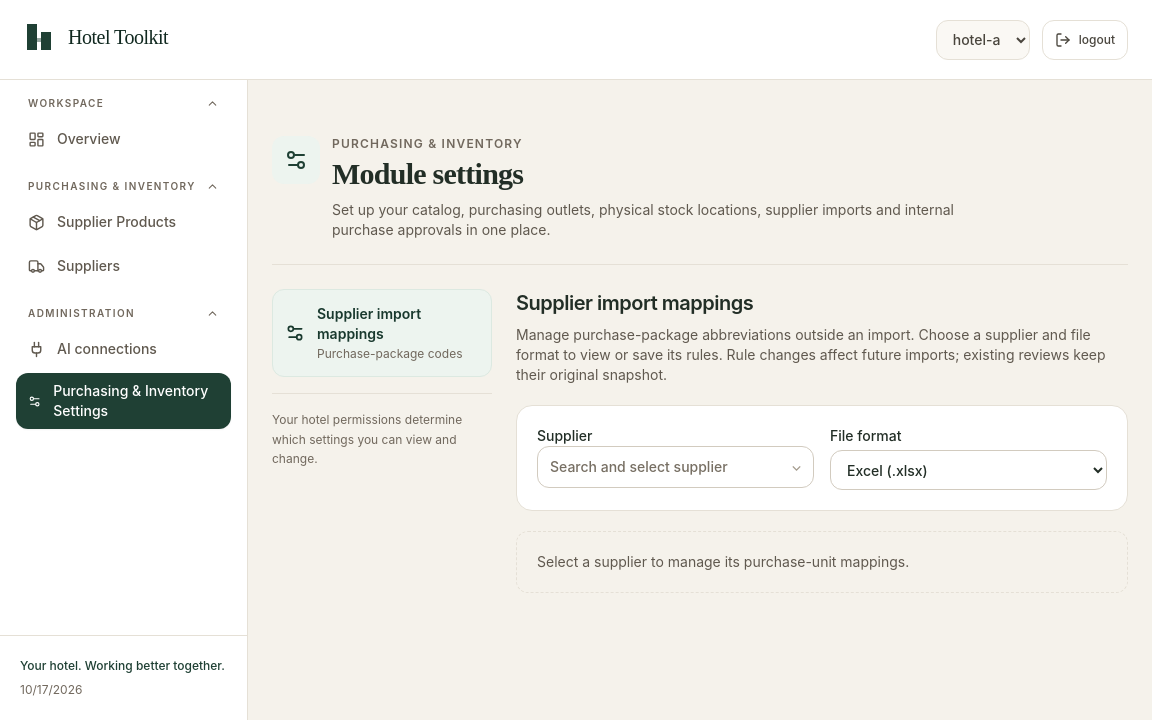
it: one permitted procurement settings section › offers supplier mappings to users with both read rights without granting unrelated settings
Step 1. Focus the dropdown named "Mapping supplier" → (676, 467), box [537,446,814,488]
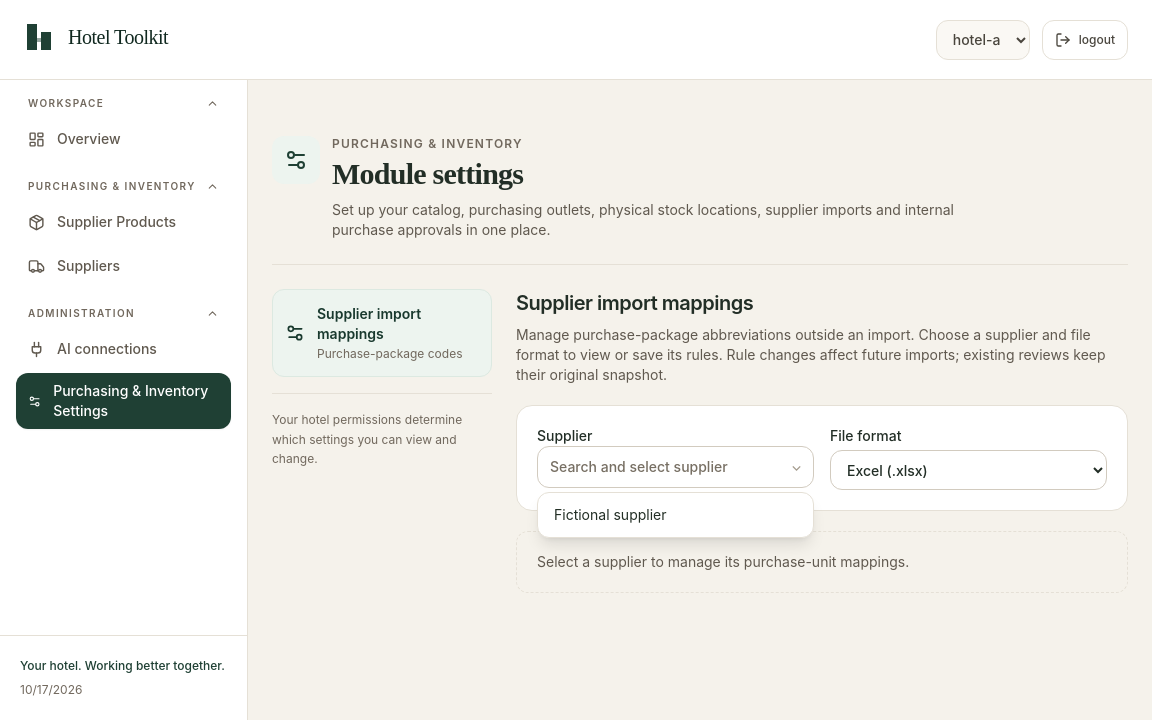
Step 2. Click the option "Fictional supplier" → (610, 514), box [554,506,666,523]
(page scrolled)
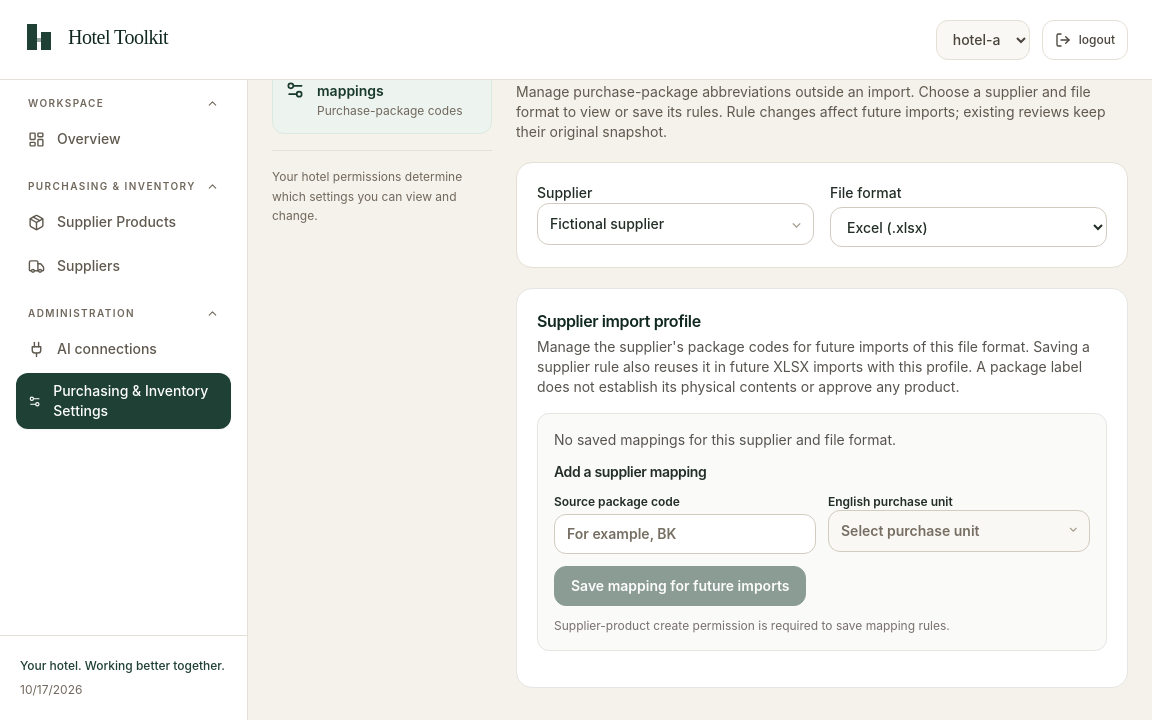
Result: the text "No saved mappings for this supplier and file format." is shown at [554,431,896,448]
Result: the button "Save mapping for future imports" is disabled at [554,566,806,606]
